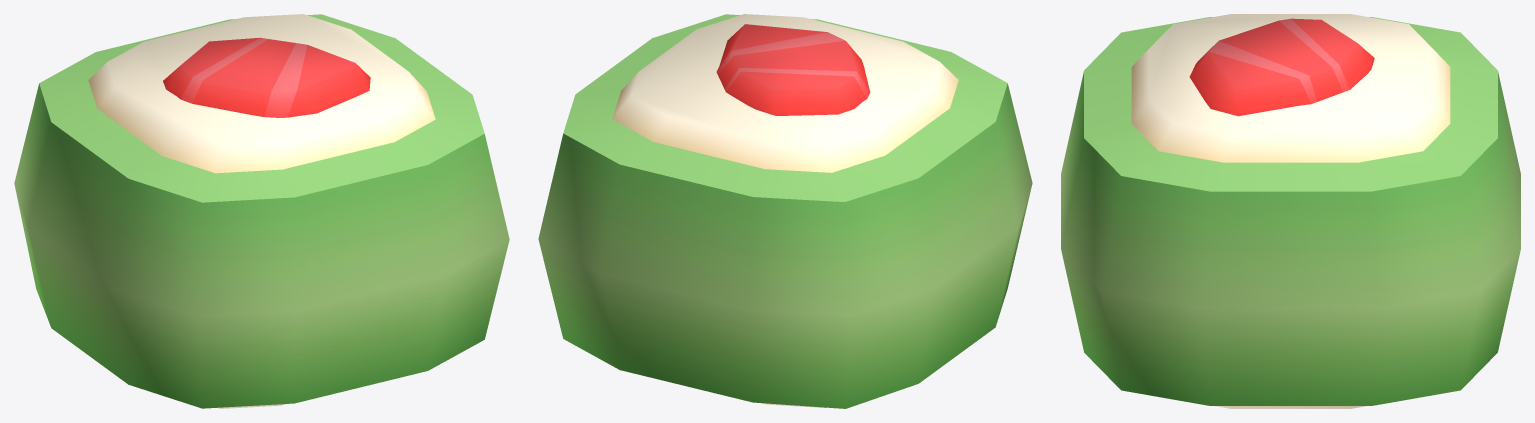
File: Sushi_Small_Cucumber_005.gltf
The picture shows the model from 3 angles, left to right: view 1: azimuth 30°, elevation 25°; view 2: azimuth 150°, elevation 25°; view 3: azimuth 270°, elevation 25°; orthographic projection. The views are drawn at different scales.
Visible parts, largest first — view 1: Sushi_Small_Cucumber_005_x; view 2: Sushi_Small_Cucumber_005_x; view 3: Sushi_Small_Cucumber_005_x.
Boxes of the visible parts, <box> form: Sushi_Small_Cucumber_005_x: <box>14,14,509,408</box>; Sushi_Small_Cucumber_005_x: <box>538,14,1032,408</box>; Sushi_Small_Cucumber_005_x: <box>1061,14,1520,408</box>.
Bounding box in the file's own units: 0.6758 × 0.5117 × 0.6758.
1 material, 1 textured.
